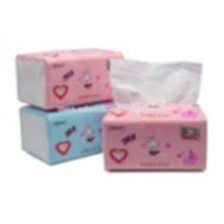tissue: (97, 98, 213, 176), (14, 96, 131, 168), (11, 43, 128, 114), (105, 54, 206, 110)
